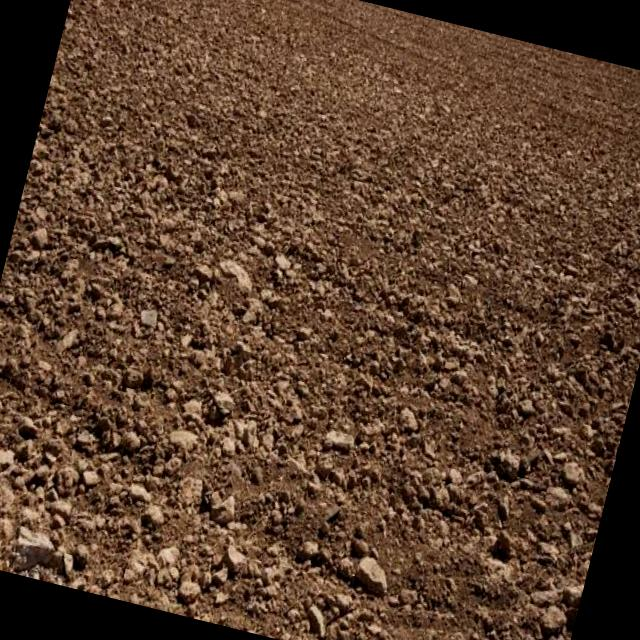suelo_seco: (102, 114, 510, 627)
